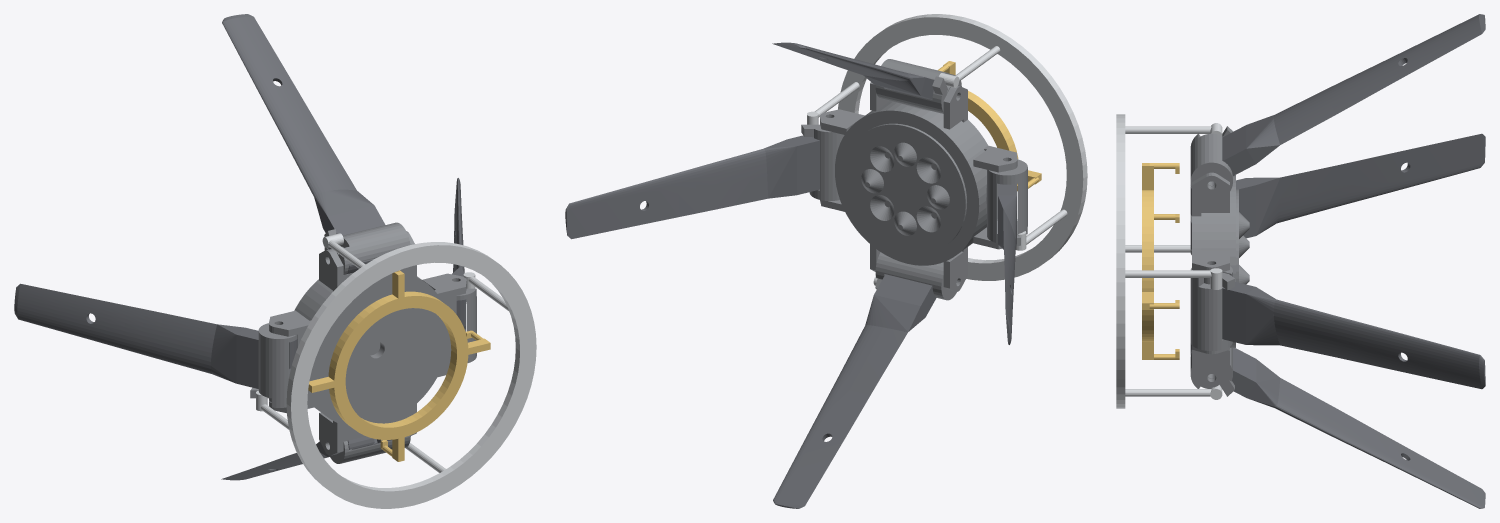
The model's file is cephalo2_rotor_legs.glb.
The picture shows the model from 3 angles, left to right: view 1: azimuth 30°, elevation 25°; view 2: azimuth 150°, elevation 25°; view 3: azimuth 270°, elevation 25°; orthographic projection. The views are drawn at different scales.
Parts seen in each view (by area): view 1: belly rotor|blades, scabbard cage|rods, belly rotor|hub, scabbard cage|elevator, belly rotor|barrels; view 2: belly rotor|blades, belly rotor|hub, scabbard cage|rods, belly rotor|barrels, scabbard cage|elevator; view 3: belly rotor|blades, belly rotor|hub, scabbard cage|rods, belly rotor|barrels, scabbard cage|elevator.
Boxes of the visible parts, left/top/right/bottom form: belly rotor|blades: left=14, top=14, right=465, bottom=480; scabbard cage|rods: left=256, top=233, right=536, bottom=508; belly rotor|hub: left=269, top=231, right=466, bottom=455; scabbard cage|elevator: left=308, top=270, right=490, bottom=461; belly rotor|barrels: left=250, top=222, right=476, bottom=463; belly rotor|blades: left=565, top=42, right=1016, bottom=508; belly rotor|hub: left=820, top=82, right=1017, bottom=291; scabbard cage|rods: left=807, top=14, right=1087, bottom=285; belly rotor|barrels: left=801, top=59, right=1027, bottom=300; scabbard cage|elevator: left=938, top=61, right=1041, bottom=191; belly rotor|blades: left=1190, top=14, right=1485, bottom=508; belly rotor|hub: left=1192, top=172, right=1249, bottom=387; scabbard cage|rods: left=1116, top=114, right=1222, bottom=408; belly rotor|barrels: left=1190, top=126, right=1234, bottom=396; scabbard cage|elevator: left=1142, top=163, right=1179, bottom=359.
Size of the model in its own units: 0.3511 by 0.3511 by 0.2435.
